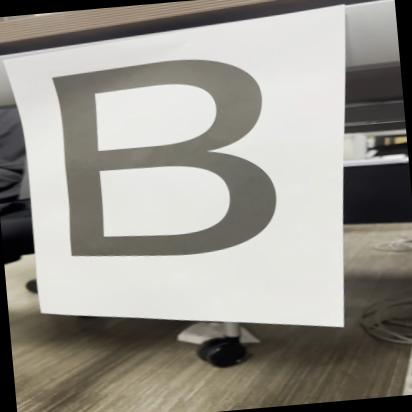seat: (21, 41, 302, 288)
